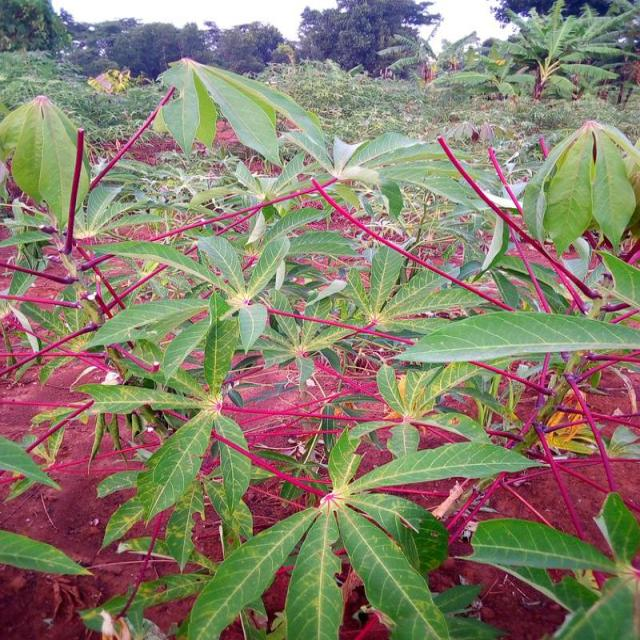cassava leaf: (0, 55, 638, 638), (522, 118, 638, 257), (394, 308, 640, 365), (0, 93, 90, 231)
